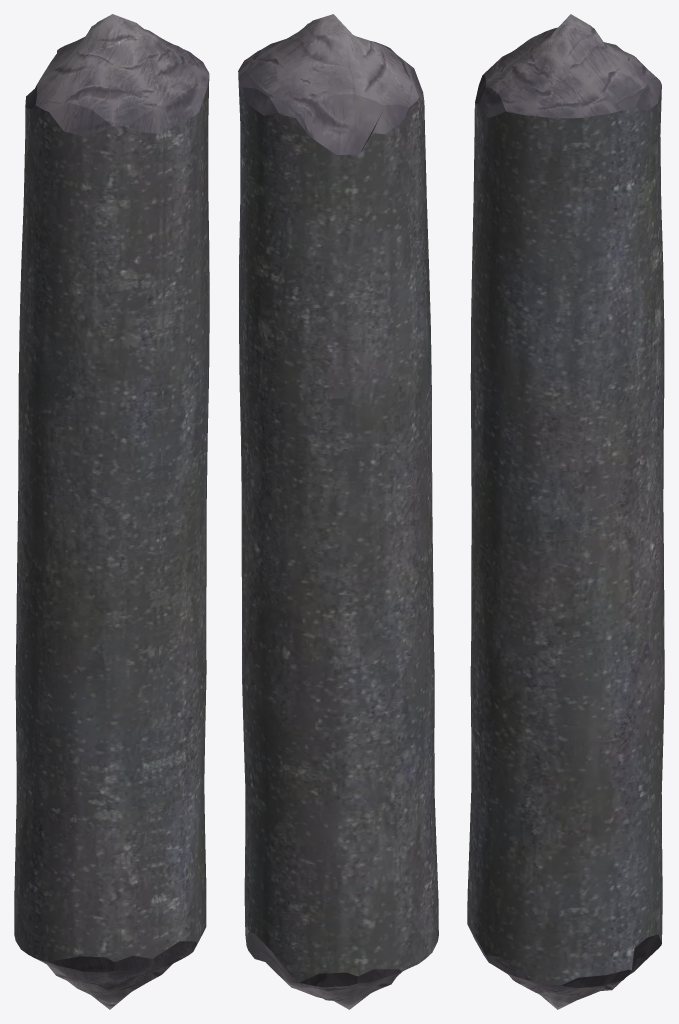
3 views of the same model, side by side, from view 1: azimuth 30°, elevation 25°; view 2: azimuth 150°, elevation 25°; view 3: azimuth 270°, elevation 25° (orthographic).
Visible parts, largest first — view 1: SM_FH_Ash_Tree_03_quarter_03_LOD0; view 2: SM_FH_Ash_Tree_03_quarter_03_LOD0; view 3: SM_FH_Ash_Tree_03_quarter_03_LOD0.
Boxes of the visible parts, x1,y1,x2,y2 form: SM_FH_Ash_Tree_03_quarter_03_LOD0: (14, 14, 209, 1009); SM_FH_Ash_Tree_03_quarter_03_LOD0: (238, 14, 438, 1009); SM_FH_Ash_Tree_03_quarter_03_LOD0: (467, 14, 664, 1009).
Size of the model in its own units: 0.4731 by 2.62 by 0.4681.
1 material, 1 textured.
